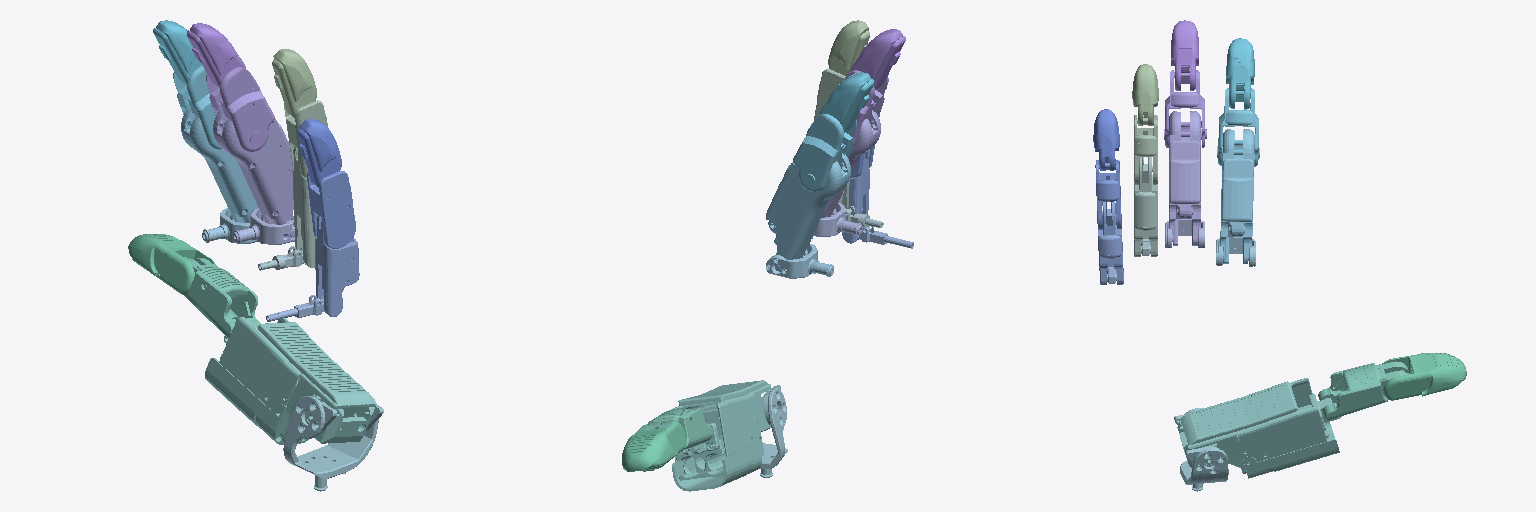
--- Facts derived from the render (not from the file) ---
3 views of the same robot in one strip: view 1: azimuth 30°, elevation 25°; view 2: azimuth 150°, elevation 25°; view 3: azimuth 270°, elevation 25° (orthographic).
Robot: freehand_description — 27 links, 26 joints (20 revolute, 6 fixed); root link base_link; default pose: all joints at 0.
Links seen in each view (by area): view 1: f52, f22, f51, f53, f23, f12, f54, f43, f42, f34, f24, f44 (+8 smaller); view 2: f52, f12, f13, f54, f14, f24, f51, f34, f53, f11, f22, f42 (+4 smaller); view 3: f52, f12, f22, f53, f54, f32, f51, f14, f24, f42, f13, f34 (+6 smaller).
Link boxes in pixels (box(x1,y1,x2,y2)): f52: box(205, 317, 375, 444); f22: box(213, 110, 294, 237); f51: box(283, 396, 383, 491); f53: box(184, 258, 260, 338); f23: box(206, 67, 274, 151); f12: box(181, 108, 257, 222); f54: box(128, 234, 215, 294); f43: box(307, 171, 355, 248); f42: box(315, 215, 359, 316); f34: box(272, 49, 316, 117); f24: box(187, 23, 245, 87); f44: box(298, 119, 341, 187); f52: box(671, 380, 771, 491); f12: box(766, 153, 850, 271); f13: box(793, 114, 856, 191); f54: box(622, 421, 685, 471); f14: box(819, 72, 874, 132); f24: box(850, 29, 905, 89); f51: box(759, 385, 787, 477); f34: box(828, 20, 869, 75); f53: box(645, 408, 713, 449); f11: box(766, 244, 833, 278); f22: box(821, 110, 880, 217); f42: box(842, 149, 869, 243); f52: box(1177, 378, 1341, 478); f12: box(1220, 129, 1254, 263); f22: box(1169, 111, 1201, 245); f53: box(1318, 361, 1409, 419); f54: box(1382, 353, 1466, 400); f32: box(1134, 157, 1157, 256); f51: box(1174, 408, 1228, 491); f14: box(1226, 38, 1254, 109); f24: box(1171, 20, 1198, 90); f42: box(1098, 201, 1123, 284); f13: box(1217, 88, 1259, 166); f34: box(1132, 64, 1158, 125).
Bounding box of the posed robot: 0.0937 × 0.187 × 0.23 m (x, y, z).
Meshes: 21 distinct files referenced, 20 mesh visuals loaded (20 binary STL); not drawn: 1 (reference not matched to a file when rendering).

URDF robot description (freehand_description):
<?xml version="1.0" encoding="utf-8"?>
<!-- This URDF was automatically created by SolidWorks to URDF Exporter! Originally created by Stephen Brawner ([email redacted]) 
     Commit Version: 1.6.0-1-g15f4949  Build Version: 1.6.7594.29634
     For more information, please see http://wiki.ros.org/sw_urdf_exporter -->
<robot
  name="freehand_description">
  <link
    name="base_link">
    <inertial>
      <origin
        xyz="0 0 0"
        rpy="0 0 0" />
      <mass
        value="0.91778" />
      <inertia
        ixx="0.0018592"
        ixy="6.239E-05"
        ixz="-6.688E-05"
        iyy="0.0015814"
        iyz="3.163E-05"
        izz="0.00064901" />
    </inertial>
    <visual>
      <origin
        xyz="0 0 0"
        rpy="0 0 0" />
      <geometry>
        <mesh
          filename="base_link.STL" />
      </geometry>
      <material
        name="">
        <color
          rgba="0.7 0.8 0.9 1" />
      </material>
    </visual>
    <collision>
      <origin
        xyz="0 0 0"
        rpy="0 0 0" />
      <geometry>
        <mesh
          filename="base_link.STL" />
      </geometry>
    </collision>
  </link>
  <link
    name="f11">
    <inertial>
      <origin
        xyz="0 0.00069742 -0.0093798"
        rpy="0 0 0" />
      <mass
        value="0.0033015" />
      <inertia
        ixx="2E-07"
        ixy="0"
        ixz="0"
        iyy="3.1E-07"
        iyz="1E-08"
        izz="1.4E-07" />
    </inertial>
    <visual>
      <origin
        xyz="0 0 0"
        rpy="0 0 0" />
      <geometry>
        <mesh
          filename="f11.STL" />
      </geometry>
      <material
        name="">
        <color
          rgba="0.65 0.8 0.9 1" />
      </material>
    </visual>
    <collision>
      <origin
        xyz="0 0 0"
        rpy="0 0 0" />
      <geometry>
        <mesh
          filename="f11.STL" />
      </geometry>
    </collision>
  </link>
  <joint
    name="f11_joint"
    type="revolute">
    <origin
      xyz="-0.022466 0.027654 0.043657"
      rpy="1.5708 0.02618 1.5708" />
    <parent
      link="base_link" />
    <child
      link="f11" />
    <axis
      xyz="0 0 1" />
    <limit
      lower="-0.4"
      upper="0.4"
      effort="0"
      velocity="0" />
  </joint>
  <link
    name="f12">
    <inertial>
      <origin
        xyz="0.026032 -0.0074611 2.268E-05"
        rpy="0 0 0" />
      <mass
        value="0.058465" />
      <inertia
        ixx="4.34E-06"
        ixy="-4.9E-06"
        ixz="5.3E-07"
        iyy="1.396E-05"
        iyz="-2.1E-07"
        izz="1.633E-05" />
    </inertial>
    <visual>
      <origin
        xyz="0 0 0"
        rpy="0 0 0" />
      <geometry>
        <mesh
          filename="f12.STL" />
      </geometry>
      <material
        name="">
        <color
          rgba="0.6 0.8 0.9 1" />
      </material>
    </visual>
    <collision>
      <origin
        xyz="0 0 0"
        rpy="0 0 0" />
      <geometry>
        <mesh
          filename="f12.STL" />
      </geometry>
    </collision>
  </link>
  <joint
    name="f12_joint"
    type="revolute">
    <origin
      xyz="0 0 0"
      rpy="1.5708 0 1.5708" />
    <parent
      link="f11" />
    <child
      link="f12" />
    <axis
      xyz="0 0 1" />
    <limit
      lower="0"
      upper="2.09"
      effort="0"
      velocity="0" />
  </joint>
  <link
    name="f13">
    <inertial>
      <origin
        xyz="0.0090975 -0.0015069 0.0013415"
        rpy="0 0 0" />
      <mass
        value="0.014574" />
      <inertia
        ixx="9.3E-07"
        ixy="-3.2E-07"
        ixz="-1.8E-07"
        iyy="2.04E-06"
        iyz="6E-08"
        izz="1.81E-06" />
    </inertial>
    <visual>
      <origin
        xyz="0 0 0"
        rpy="0 0 0" />
      <geometry>
        <mesh
          filename="f13.STL" />
      </geometry>
      <material
        name="">
        <color
          rgba="0.55 0.8 0.9 1" />
      </material>
    </visual>
    <collision>
      <origin
        xyz="0 0 0"
        rpy="0 0 0" />
      <geometry>
        <mesh
          filename="f13.STL" />
      </geometry>
    </collision>
  </link>
  <joint
    name="f13_joint"
    type="revolute">
    <origin
      xyz="0.048883 -0.018383 0"
      rpy="0 0 0" />
    <parent
      link="f12" />
    <child
      link="f13" />
    <axis
      xyz="0 0 1" />
    <limit
      lower="0"
      upper="1.744"
      effort="0"
      velocity="0" />
  </joint>
  <link
    name="f14">
    <inertial>
      <origin
        xyz="0.007749 -0.0041898 -0.00072552"
        rpy="0 0 0" />
      <mass
        value="0.0055228" />
      <inertia
        ixx="2.3E-07"
        ixy="-1.5E-07"
        ixz="2E-08"
        iyy="4E-07"
        iyz="-1E-08"
        izz="5E-07" />
    </inertial>
    <visual>
      <origin
        xyz="0 0 0"
        rpy="0 0 0" />
      <geometry>
        <mesh
          filename="f14.STL" />
      </geometry>
      <material
        name="">
        <color
          rgba="0.5 0.8 0.9 1" />
      </material>
    </visual>
    <collision>
      <origin
        xyz="0 0 0"
        rpy="0 0 0" />
      <geometry>
        <mesh
          filename="f14.STL" />
      </geometry>
    </collision>
  </link>
  <joint
    name="f14_joint"
    type="revolute">
    <origin
      xyz="0.0284 -0.0092477 0"
      rpy="0 0 0" />
    <parent
      link="f13" />
    <child
      link="f14" />
    <axis
      xyz="0 0 1" />
    <limit
      lower="0"
      upper="1.744"
      effort="0"
      velocity="0" />
  </joint>
  <link
    name="f14_touch">
    <inertial>
      <origin
        xyz="-0.010332 -0.0011919 -1.5694E-06"
        rpy="0 0 0" />
      <mass
        value="5.5227E-30" />
      <inertia
        ixx="1.8111E-30"
        ixy="8.9727E-30"
        ixz="3.0827E-30"
        iyy="2.1865E-30"
        iyz="-8.5132E-30"
        izz="3.0253E-30" />
    </inertial>
    <!--visual>
      <origin
        xyz="0 0 0"
        rpy="0 0 0" />
      <geometry>
        <mesh
          filename="f14_touch.STL" />
      </geometry>
      <material
        name="">
        <color
          rgba="0.79216 0.81961 0.93333 1" />
      </material>
    </visual>
    <collision>
      <origin
        xyz="0 0 0"
        rpy="0 0 0" />
      <geometry>
        <mesh
          filename="f14_touch.STL" />
      </geometry>
    </collision-->
  </link>
  <joint
    name="f14_touch_joint"
    type="fixed">
    <origin
      xyz="0.019695 -0.0034802 0"
      rpy="0 0 0" />
    <parent
      link="f14" />
    <child
      link="f14_touch" />
    <axis
      xyz="0 0 0" />
  </joint>
  <link
    name="f21">
    <inertial>
      <origin
        xyz="0 0.00069742 -0.0093798"
        rpy="0 0 0" />
      <mass
        value="0.0033015" />
      <inertia
        ixx="2E-07"
        ixy="0"
        ixz="0"
        iyy="3.1E-07"
        iyz="1E-08"
        izz="1.4E-07" />
    </inertial>
    <visual>
      <origin
        xyz="0 0 0"
        rpy="0 0 0" />
      <geometry>
        <mesh
          filename="f21.STL" />
      </geometry>
      <material
        name="">
        <color
          rgba="0.7 0.75 0.9 1" />
      </material>
    </visual>
    <collision>
      <origin
        xyz="0 0 0"
        rpy="0 0 0" />
      <geometry>
        <mesh
          filename="f21.STL" />
      </geometry>
    </collision>
  </link>
  <joint
    name="f21_joint"
    type="revolute">
    <origin
      xyz="-0.022466 0.0022583 0.053546"
      rpy="1.5708 0 1.5708" />
    <parent
      link="base_link" />
    <child
      link="f21" />
    <axis
      xyz="0 0 1" />
    <limit
      lower="-0.4"
      upper="0.4"
      effort="0"
      velocity="0" />
  </joint>
  <link
    name="f22">
    <inertial>
      <origin
        xyz="0.026032 -0.0074611 2.268E-05"
        rpy="0 0 0" />
      <mass
        value="0.058465" />
      <inertia
        ixx="4.34E-06"
        ixy="-4.9E-06"
        ixz="5.3E-07"
        iyy="1.396E-05"
        iyz="-2.1E-07"
        izz="1.633E-05" />
    </inertial>
    <visual>
      <origin
        xyz="0 0 0"
        rpy="0 0 0" />
      <geometry>
        <mesh
          filename="f22.STL" />
      </geometry>
      <material
        name="">
        <color
          rgba="0.7 0.7 0.9 1" />
      </material>
    </visual>
    <collision>
      <origin
        xyz="0 0 0"
        rpy="0 0 0" />
      <geometry>
        <mesh
          filename="f22.STL" />
      </geometry>
    </collision>
  </link>
  <joint
    name="f22_joint"
    type="revolute">
    <origin
      xyz="0 0 0"
      rpy="1.5708 0 1.5708" />
    <parent
      link="f21" />
    <child
      link="f22" />
    <axis
      xyz="0 0 1" />
    <limit
      lower="0"
      upper="2.09"
      effort="0"
      velocity="0" />
  </joint>
  <link
    name="f23">
    <inertial>
      <origin
        xyz="0.0090975 -0.0015069 0.0013415"
        rpy="0 0 0" />
      <mass
        value="0.014574" />
      <inertia
        ixx="9.3E-07"
        ixy="-3.2E-07"
        ixz="-1.8E-07"
        iyy="2.04E-06"
        iyz="6E-08"
        izz="1.81E-06" />
    </inertial>
    <visual>
      <origin
        xyz="0 0 0"
        rpy="0 0 0" />
      <geometry>
        <mesh
          filename="f23.STL" />
      </geometry>
      <material
        name="">
        <color
          rgba="0.7 0.65 0.9 1" />
      </material>
    </visual>
    <collision>
      <origin
        xyz="0 0 0"
        rpy="0 0 0" />
      <geometry>
        <mesh
          filename="f23.STL" />
      </geometry>
    </collision>
  </link>
  <joint
    name="f23_joint"
    type="revolute">
    <origin
      xyz="0.048883 -0.018383 0"
      rpy="0 0 0" />
    <parent
      link="f22" />
    <child
      link="f23" />
    <axis
      xyz="0 0 1" />
    <limit
      lower="0"
      upper="1.744"
      effort="0"
      velocity="0" />
  </joint>
  <link
    name="f24">
    <inertial>
      <origin
        xyz="0.007749 -0.0041898 -0.00072552"
        rpy="0 0 0" />
      <mass
        value="0.0055228" />
      <inertia
        ixx="2.3E-07"
        ixy="-1.5E-07"
        ixz="2E-08"
        iyy="4E-07"
        iyz="-1E-08"
        izz="5E-07" />
    </inertial>
    <visual>
      <origin
        xyz="0 0 0"
        rpy="0 0 0" />
      <geometry>
        <mesh
          filename="f24.STL" />
      </geometry>
      <material
        name="">
        <color
          rgba="0.7 0.6 0.9 1" />
      </material>
    </visual>
    <collision>
      <origin
        xyz="0 0 0"
        rpy="0 0 0" />
      <geometry>
        <mesh
          filename="f24.STL" />
      </geometry>
    </collision>
  </link>
  <joint
    name="f24_joint"
    type="revolute">
    <origin
      xyz="0.0284 -0.0092477 0"
      rpy="0 0 0" />
    <parent
      link="f23" />
    <child
      link="f24" />
    <axis
      xyz="0 0 1" />
    <limit
      lower="0"
      upper="1.744"
      effort="0"
      velocity="0" />
  </joint>
  <link
    name="f24_touch">
    <inertial>
      <origin
        xyz="-0.010332 -0.0011919 -1.5701E-06"
        rpy="0 0 0" />
      <mass
        value="5.5227E-30" />
      <inertia
        ixx="1.8111E-30"
        ixy="8.9727E-30"
        ixz="3.0812E-30"
        iyy="2.1865E-30"
        iyz="-8.5218E-30"
        izz="3.0253E-30" />
    </inertial>
    <!--visual>
      <origin
        xyz="0 0 0"
        rpy="0 0 0" />
      <geometry>
        <mesh
          filename="f24_touch.STL" />
      </geometry>
      <material
        name="">
        <color
          rgba="0.79216 0.81961 0.93333 1" />
      </material>
    </visual>
    <collision>
      <origin
        xyz="0 0 0"
        rpy="0 0 0" />
      <geometry>
        <mesh
          filename="f24_touch.STL" />
      </geometry>
    </collision-->
  </link>
  <joint
    name="f24_touch_joint"
    type="fixed">
    <origin
      xyz="0.019695 -0.0034802 0"
      rpy="0 0 0" />
    <parent
      link="f24" />
    <child
      link="f24_touch" />
    <axis
      xyz="0 0 0" />
  </joint>
  <link
    name="f31">
    <inertial>
      <origin
        xyz="-6.964E-05 -0.00044078 -0.012759"
        rpy="0 0 0" />
      <mass
        value="0.0085521" />
      <inertia
        ixx="7.6E-07"
        ixy="0"
        ixz="0"
        iyy="7.6E-07"
        iyz="4E-08"
        izz="1.3E-07" />
    </inertial>
    <visual>
      <origin
        xyz="0 0 0"
        rpy="0 0 0" />
      <geometry>
        <mesh
          filename="f31.STL" />
      </geometry>
      <material
        name="">
        <color
          rgba="0.7 0.8 0.85 1" />
      </material>
    </visual>
    <collision>
      <origin
        xyz="0 0 0"
        rpy="0 0 0" />
      <geometry>
        <mesh
          filename="f31.STL" />
      </geometry>
    </collision>
  </link>
  <joint
    name="f31_joint"
    type="revolute">
    <origin
      xyz="-0.021466 -0.017542 0.047798"
      rpy="1.5708 0 1.5708" />
    <parent
      link="base_link" />
    <child
      link="f31" />
    <axis
      xyz="0 0 1" />
    <limit
      lower="-0.4"
      upper="0.4"
      effort="0"
      velocity="0" />
  </joint>
  <link
    name="f32">
    <inertial>
      <origin
        xyz="0.025132 0.0031733 -8.727E-05"
        rpy="0 0 0" />
      <mass
        value="0.01244" />
      <inertia
        ixx="4.5E-07"
        ixy="-1.2E-07"
        ixz="0"
        iyy="2.29E-06"
        iyz="0"
        izz="2.41E-06" />
    </inertial>
    <visual>
      <origin
        xyz="0 0 0"
        rpy="0 0 0" />
      <geometry>
        <mesh
          filename="f32.STL" />
      </geometry>
      <material
        name="">
        <color
          rgba="0.7 0.8 0.8 1" />
      </material>
    </visual>
    <collision>
      <origin
        xyz="0 0 0"
        rpy="0 0 0" />
      <geometry>
        <mesh
          filename="f32.STL" />
      </geometry>
    </collision>
  </link>
  <joint
    name="f32_joint"
    type="revolute">
    <origin
      xyz="0 0 0"
      rpy="1.5708 0 1.5708" />
    <parent
      link="f31" />
    <child
      link="f32" />
    <axis
      xyz="0 0 1" />
    <limit
      lower="0"
      upper="1.744"
      effort="0"
      velocity="0" />
  </joint>
  <link
    name="f33">
    <inertial>
      <origin
        xyz="0.010032 -0.00058707 -9.093E-05"
        rpy="0 0 0" />
      <mass
        value="0.0071009" />
      <inertia
        ixx="2.8E-07"
        ixy="-8E-08"
        ixz="0"
        iyy="6.9E-07"
        iyz="0"
        izz="7E-07" />
    </inertial>
    <visual>
      <origin
        xyz="0 0 0"
        rpy="0 0 0" />
      <geometry>
        <mesh
          filename="f33.STL" />
      </geometry>
      <material
        name="">
        <color
          rgba="0.7 0.8 0.75 1" />
      </material>
    </visual>
    <collision>
      <origin
        xyz="0 0 0"
        rpy="0 0 0" />
      <geometry>
        <mesh
          filename="f33.STL" />
      </geometry>
    </collision>
  </link>
  <joint
    name="f33_joint"
    type="revolute">
    <origin
      xyz="0.044995 0.00066781 0"
      rpy="0 0 0" />
    <parent
      link="f32" />
    <child
      link="f33" />
    <axis
      xyz="0 0 1" />
    <limit
      lower="0"
      upper="1.744"
      effort="0"
      velocity="0" />
  </joint>
  <link
    name="f34">
    <inertial>
      <origin
        xyz="0.010482 -0.0030354 -1.03E-05"
        rpy="0 0 0" />
      <mass
        value="0.0049513" />
      <inertia
        ixx="1.3E-07"
        ixy="-6E-08"
        ixz="0"
        iyy="3.2E-07"
        iyz="0"
        izz="3.7E-07" />
    </inertial>
    <visual>
      <origin
        xyz="0 0 0"
        rpy="0 0 0" />
      <geometry>
        <mesh
          filename="f34.STL" />
      </geometry>
      <material
        name="">
        <color
          rgba="0.7 0.8 0.7 1" />
      </material>
    </visual>
    <collision>
      <origin
        xyz="0 0 0"
        rpy="0 0 0" />
      <geometry>
        <mesh
          filename="f34.STL" />
      </geometry>
    </collision>
  </link>
  <joint
    name="f34_joint"
    type="revolute">
    <origin
      xyz="0.024601 -0.0044465 0"
      rpy="0 0 0" />
    <parent
      link="f33" />
    <child
      link="f34" />
    <axis
      xyz="0 0 1" />
    <limit
      lower="0"
      upper="1.744"
      effort="0"
      velocity="0" />
  </joint>
  <link
    name="f34_touch">
    <inertial>
      <origin
        xyz="-0.0083273 -0.0042825 -1.427E-06"
        rpy="0 0 0" />
      <mass
        value="4.9512E-30" />
      <inertia
        ixx="1.1521E-30"
        ixy="4.836E-30"
        ixz="-1.3182E-30"
        iyy="1.7954E-30"
        iyz="8.5895E-30"
        izz="2.2159E-30" />
    </inertial>
    <!--visual>
      <origin
        xyz="0 0 0"
        rpy="0 0 0" />
      <geometry>
        <mesh
          filename="f34_touch.STL" />
      </geometry>
      <material
        name="">
        <color
          rgba="0.79216 0.81961 0.93333 1" />
      </material>
    </visual>
    <collision>
      <origin
        xyz="0 0 0"
        rpy="0 0 0" />
      <geometry>
        <mesh
          filename="f34_touch.STL" />
      </geometry>
    </collision-->
  </link>
  <joint
    name="f34_touch_joint"
    type="fixed">
    <origin
      xyz="0.021134 0.0011803 0"
      rpy="0 0 0" />
    <parent
      link="f34" />
    <child
      link="f34_touch" />
    <axis
      xyz="0 0 0" />
  </joint>
  <link
    name="f41">
    <inertial>
      <origin
        xyz="-6.964E-05 -0.00044078 -0.012759"
        rpy="0 0 0" />
      <mass
        value="0.0085521" />
      <inertia
        ixx="7.6E-07"
        ixy="0"
        ixz="0"
        iyy="7.6E-07"
        iyz="4E-08"
        izz="1.3E-07" />
    </inertial>
    <visual>
      <origin
        xyz="0 0 0"
        rpy="0 0 0" />
      <geometry>
        <mesh
          filename="f41.STL" />
      </geometry>
      <material
        name="">
        <color
          rgba="0.65 0.75 0.9 1" />
      </material>
    </visual>
    <collision>
      <origin
        xyz="0 0 0"
        rpy="0 0 0" />
      <geometry>
        <mesh
          filename="f41.STL" />
      </geometry>
    </collision>
  </link>
  <joint
    name="f41_joint"
    type="revolute">
    <origin
      xyz="-0.021466 -0.034458 0.032384"
      rpy="1.5708 -0.034907 1.5708" />
    <parent
      link="base_link" />
    <child
      link="f41" />
    <axis
      xyz="0 0 1" />
    <limit
      lower="-0.4"
      upper="0.4"
      effort="0"
      velocity="0" />
  </joint>
  <link
    name="f42">
    <inertial>
      <origin
        xyz="0.021044 0.0035949 -7.944E-05"
        rpy="0 0 0" />
      <mass
        value="0.0096409" />
      <inertia
        ixx="3.5E-07"
        ixy="-3E-08"
        ixz="0"
        iyy="1.24E-06"
        iyz="0"
        izz="1.35E-06" />
    </inertial>
    <visual>
      <origin
        xyz="0 0 0"
        rpy="0 0 0" />
      <geometry>
        <mesh
          filename="f42.STL" />
      </geometry>
      <material
        name="">
        <color
          rgba="0.6 0.7 0.9 1" />
      </material>
    </visual>
    <collision>
      <origin
        xyz="0 0 0"
        rpy="0 0 0" />
      <geometry>
        <mesh
          filename="f42.STL" />
      </geometry>
    </collision>
  </link>
  <joint
    name="f42_joint"
    type="revolute">
    <origin
      xyz="0 0 0"
      rpy="1.5708 0 1.5708" />
    <parent
      link="f41" />
    <child
      link="f42" />
    <axis
      xyz="0 0 1" />
    <limit
      lower="0"
      upper="1.6"
      effort="0"
      velocity="0" />
  </joint>
  <link
    name="f43">
    <inertial>
      <origin
        xyz="0.010032 -0.00058707 -9.093E-05"
        rpy="0 0 0" />
      <mass
        value="0.0071009" />
      <inertia
        ixx="2.8E-07"
        ixy="-8E-08"
        ixz="0"
        iyy="6.9E-07"
        iyz="0"
        izz="7E-07" />
    </inertial>
    <visual>
      <origin
        xyz="0 0 0"
        rpy="0 0 0" />
      <geometry>
        <mesh
          filename="f43.STL" />
      </geometry>
      <material
        name="">
        <color
          rgba="0.55 0.65 0.9 1" />
      </material>
    </visual>
    <collision>
      <origin
        xyz="0 0 0"
        rpy="0 0 0" />
      <geometry>
        <mesh
          filename="f43.STL" />
      </geometry>
    </collision>
  </link>
  <joint
    name="f43_joint"
    type="revolute">
    <origin
      xyz="0.035975 0.001338 0"
      rpy="0 0 0" />
    <parent
      link="f42" />
    <child
      link="f43" />
    <axis
      xyz="0 0 1" />
    <limit
      lower="0"
      upper="1.744"
      effort="0"
      velocity="0" />
  </joint>
  <link
    name="f44">
    <inertial>
      <origin
        xyz="0.010482 -0.0030354 -1.03E-05"
        rpy="0 0 0" />
      <mass
        value="0.0049513" />
      <inertia
        ixx="1.3E-07"
        ixy="-6E-08"
        ixz="0"
        iyy="3.2E-07"
        iyz="0"
        izz="3.7E-07" />
    </inertial>
    <visual>
      <origin
        xyz="0 0 0"
        rpy="0 0 0" />
      <geometry>
        <mesh
          filename="f44.STL" />
      </geometry>
      <material
        name="">
        <color
          rgba="0.5 0.6 0.9 1" />
      </material>
    </visual>
    <collision>
      <origin
        xyz="0 0 0"
        rpy="0 0 0" />
      <geometry>
        <mesh
          filename="f44.STL" />
      </geometry>
    </collision>
  </link>
  <joint
    name="f44_joint"
    type="revolute">
    <origin
      xyz="0.024621 -0.004339 0"
      rpy="0 0 0" />
    <parent
      link="f43" />
    <child
      link="f44" />
    <axis
      xyz="0 0 1" />
    <limit
      lower="0"
      upper="1.744"
      effort="0"
      velocity="0" />
  </joint>
  <link
    name="f44_touch">
    <inertial>
      <origin
        xyz="-0.0083659 -0.0043407 -1.419E-06"
        rpy="0 0 0" />
      <mass
        value="5.0077E-30" />
      <inertia
        ixx="1.1521E-30"
        ixy="4.8481E-30"
        ixz="-1.3705E-30"
        iyy="1.824E-30"
        iyz="8.7785E-30"
        izz="2.2404E-30" />
    </inertial>
    <!--visual>
      <origin
        xyz="0 0 0"
        rpy="0 0 0" />
      <geometry>
        <mesh
          filename="f44_touch.STL" />
      </geometry>
      <material
        name="">
        <color
          rgba="0.79216 0.81961 0.93333 1" />
      </material>
    </visual>
    <collision>
      <origin
        xyz="0 0 0"
        rpy="0 0 0" />
      <geometry>
        <mesh
          filename="f44_touch.STL" />
      </geometry>
    </collision-->
  </link>
  <joint
    name="f44_touch_joint"
    type="fixed">
    <origin
      xyz="0.021123 0.0013734 0"
      rpy="0 0 0" />
    <parent
      link="f44" />
    <child
      link="f44_touch" />
    <axis
      xyz="0 0 0" />
  </joint>
  <link
    name="f51">
    <inertial>
      <origin
        xyz="0.0053991 0.0016936 0.01157"
        rpy="0 0 0" />
      <mass
        value="0.022542" />
      <inertia
        ixx="3.06E-06"
        ixy="4.2E-07"
        ixz="3.3E-07"
        iyy="5.17E-06"
        iyz="1E-08"
        izz="3.39E-06" />
    </inertial>
    <visual>
      <origin
        xyz="0 0 0"
        rpy="0 0 0" />
      <geometry>
        <mesh
          filename="f51.STL" />
      </geometry>
      <material
        name="">
        <color
          rgba="0.65 0.8 0.85 1" />
      </material>
    </visual>
    <collision>
      <origin
        xyz="0 0 0"
        rpy="0 0 0" />
      <geometry>
        <mesh
          filename="f51.STL" />
      </geometry>
    </collision>
  </link>
  <joint
    name="f51_joint"
    type="revolute">
    <origin
      xyz="-0.00049657 0.0084524 -0.066754"
      rpy="0 0 0" />
    <parent
      link="base_link" />
    <child
      link="f51" />
    <axis
      xyz="0 0 -1" />
    <limit
      lower="0"
      upper="1.5"
      effort="0"
      velocity="0" />
  </joint>
  <link
    name="f52">
    <inertial>
      <origin
        xyz="0.03317 -0.0064258 -0.00083733"
        rpy="0 0 0" />
      <mass
        value="0.12909" />
      <inertia
        ixx="1.628E-05"
        ixy="-6.22E-06"
        ixz="-3.01E-06"
        iyy="6.413E-05"
        iyz="1.13E-06"
        izz="6.867E-05" />
    </inertial>
    <visual>
      <origin
        xyz="0 0 0"
        rpy="0 0 0" />
      <geometry>
        <mesh
          filename="f52.STL" />
      </geometry>
      <material
        name="">
        <color
          rgba="0.6 0.8 0.8 1" />
      </material>
    </visual>
    <collision>
      <origin
        xyz="0 0 0"
        rpy="0 0 0" />
      <geometry>
        <mesh
          filename="f52.STL" />
      </geometry>
    </collision>
  </link>
  <joint
    name="f52_joint"
    type="revolute">
    <origin
      xyz="0.0092399 0.0031582 0.022073"
      rpy="1.8447 -0.25085 1.7172" />
    <parent
      link="f51" />
    <child
      link="f52" />
    <axis
      xyz="0 0 1" />
    <limit
      lower="0"
      upper="1.332"
      effort="0"
      velocity="0" />
  </joint>
  <link
    name="f53">
    <inertial>
      <origin
        xyz="0.021453 0.0041043 -5.93E-06"
        rpy="0 0 0" />
      <mass
        value="0.011849" />
      <inertia
        ixx="6.6E-07"
        ixy="-1E-08"
        ixz="-1E-08"
        iyy="1.94E-06"
        iyz="0"
        izz="1.88E-06" />
    </inertial>
    <visual>
      <origin
        xyz="0 0 0"
        rpy="0 0 0" />
      <geometry>
        <mesh
          filename="f53.STL" />
      </geometry>
      <material
        name="">
        <color
          rgba="0.55 0.8 0.75 1" />
      </material>
    </visual>
    <collision>
      <origin
        xyz="0 0 0"
        rpy="0 0 0" />
      <geometry>
        <mesh
          filename="f53.STL" />
      </geometry>
    </collision>
  </link>
  <joint
    name="f53_joint"
    type="revolute">
    <origin
      xyz="0.0654 0 0"
      rpy="0 0 0" />
    <parent
      link="f52" />
    <child
      link="f53" />
    <axis
      xyz="0 0 1" />
    <limit
      lower="0"
      upper="1.744"
      effort="0"
      velocity="0" />
  </joint>
  <link
    name="f54">
    <inertial>
      <origin
        xyz="0.013824 -0.0017677 -5.567E-05"
        rpy="0 0 0" />
      <mass
        value="0.010348" />
      <inertia
        ixx="5.5E-07"
        ixy="-1.5E-07"
        ixz="0"
        iyy="1.35E-06"
        iyz="0"
        izz="1.17E-06" />
    </inertial>
    <visual>
      <origin
        xyz="0 0 0"
        rpy="0 0 0" />
      <geometry>
        <mesh
          filename="f54.STL" />
      </geometry>
      <material
        name="">
        <color
          rgba="0.5 0.8 0.7 1" />
      </material>
    </visual>
    <collision>
      <origin
        xyz="0 0 0"
        rpy="0 0 0" />
      <geometry>
        <mesh
          filename="f54.STL" />
      </geometry>
    </collision>
  </link>
  <joint
    name="f54_joint"
    type="revolute">
    <origin
      xyz="0.035837 0.0034221 0"
      rpy="0 0 0" />
    <parent
      link="f53" />
    <child
      link="f54" />
    <axis
      xyz="0 0 1" />
    <limit
      lower="0"
      upper="1.744"
      effort="0"
      velocity="0" />
  </joint>
  <link
    name="f54_touch">
    <inertial>
      <origin
        xyz="-0.0069393 -0.0062876 -6.6426E-06"
        rpy="0 0 0" />
      <mass
        value="1.0348E-30" />
      <inertia
        ixx="3.82E-30"
        ixy="1.0071E-30"
        ixz="-4.036E-30"
        iyy="6.7691E-30"
        iyz="-1.7183E-30"
        izz="6.1259E-30" />
    </inertial>
    <!--visual>
      <origin
        xyz="0 0 0"
        rpy="0 0 0" />
      <geometry>
        <mesh
          filename="f54_touch.STL" />
      </geometry>
      <material
        name="">
        <color
          rgba="0.79216 0.81961 0.93333 1" />
      </material>
    </visual>
    <collision>
      <origin
        xyz="0 0 0"
        rpy="0 0 0" />
      <geometry>
        <mesh
          filename="f54_touch.STL" />
      </geometry>
    </collision-->
  </link>
  <joint
    name="f51_touch_joint"
    type="fixed">
    <origin
      xyz="0.024 0.0044004 0"
      rpy="0 0 0" />
    <parent
      link="f54" />
    <child
      link="f54_touch" />
    <axis
      xyz="0 0 0" />
  </joint>
  <link
    name="wrist">
    <inertial>
      <origin
        xyz="-0.0028852 -0.0083149 0.064459"
        rpy="0 0 0" />
      <mass
        value="9.1778E-30" />
      <inertia
        ixx="7.9132E-30"
        ixy="-2.1444E-30"
        ixz="1.1504E-30"
        iyy="5.5073E-30"
        iyz="-5.3465E-30"
        izz="5.0251E-30" />
    </inertial>
    <!--visual>
      <origin
        xyz="0 0 0"
        rpy="0 0 0" />
      <geometry>
        <mesh
          filename="wrist.STL" />
      </geometry>
      <material
        name="">
        <color
          rgba="0.79216 0.81961 0.93333 1" />
      </material>
    </visual>
    <collision>
      <origin
        xyz="0 0 0"
        rpy="0 0 0" />
      <geometry>
        <mesh
          filename="wrist.STL" />
      </geometry>
    </collision-->
  </link>
  <joint
    name="wrist_joint"
    type="fixed">
    <origin
      xyz="-0.026239 0.004298 -0.089754"
      rpy="0 0 0" />
    <parent
      link="base_link" />
    <child
      link="wrist" />
    <axis
      xyz="0 0 0" />
  </joint>
</robot>
